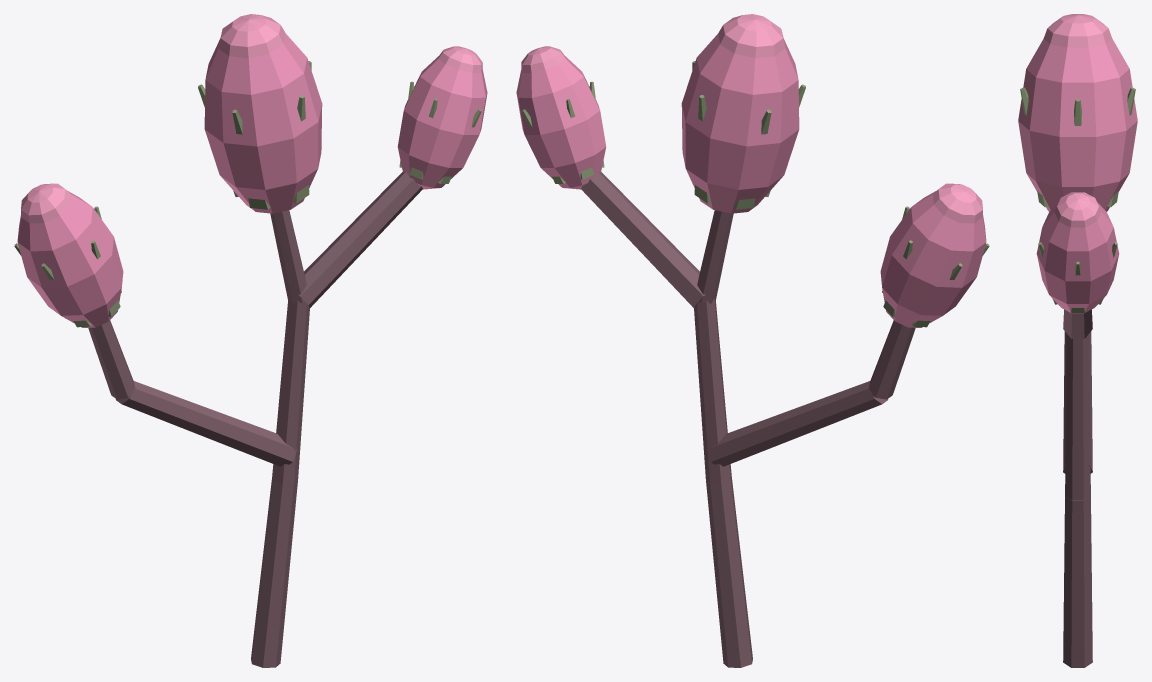
File: opening-buds.glb
The picture shows the model from 3 angles, left to right: view 1: azimuth 30°, elevation 25°; view 2: azimuth 150°, elevation 25°; view 3: azimuth 270°, elevation 25°; orthographic projection.
Visible parts, largest first — view 1: left bud · closed petals, bud stem · segment 1, left bud · bright tip, left bud · sepal 1; view 2: left bud · closed petals, bud stem · segment 1, left bud · bright tip, left bud · sepal 1; view 3: left bud · closed petals, bud stem · segment 1, left bud · bright tip, left bud · sepal 1.
Part boxes in pixels (left/top/right/bottom): left bud · closed petals: left=17, top=34, right=487, bottom=327; bud stem · segment 1: left=88, top=172, right=422, bottom=667; left bud · bright tip: left=21, top=14, right=482, bottom=223; left bud · sepal 1: left=14, top=61, right=481, bottom=327; left bud · closed petals: left=516, top=34, right=986, bottom=327; bud stem · segment 1: left=581, top=172, right=915, bottom=667; left bud · bright tip: left=521, top=14, right=982, bottom=223; left bud · sepal 1: left=522, top=61, right=989, bottom=327; left bud · closed petals: left=1018, top=38, right=1137, bottom=313; bud stem · segment 1: left=1063, top=309, right=1092, bottom=667; left bud · bright tip: left=1043, top=14, right=1112, bottom=227; left bud · sepal 1: left=1020, top=87, right=1135, bottom=312.
Size of the model in its own units: 0.1895 by 0.2546 by 0.0432.
